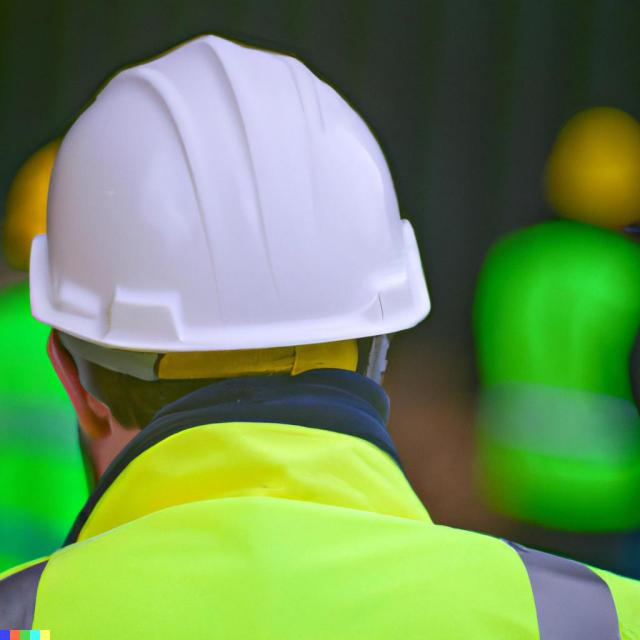Reflective-Jacket: (7, 425, 580, 637)
Safety-Helmet: (24, 26, 432, 362), (532, 99, 638, 233)
